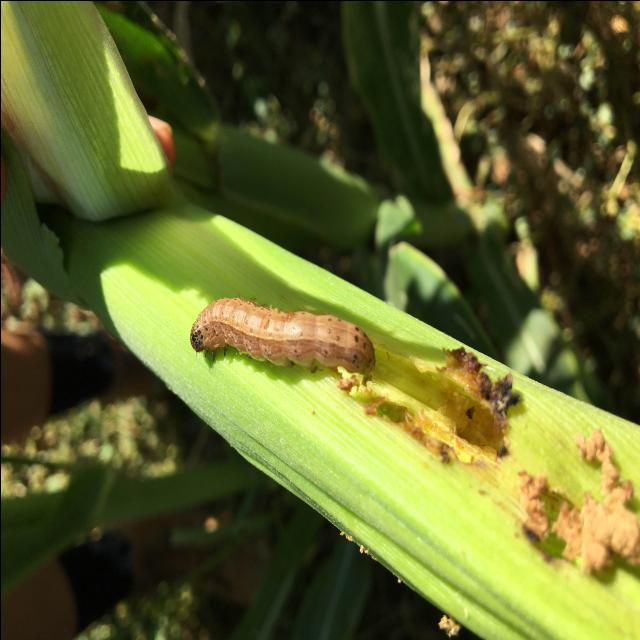armyworm: (166, 284, 404, 391)
